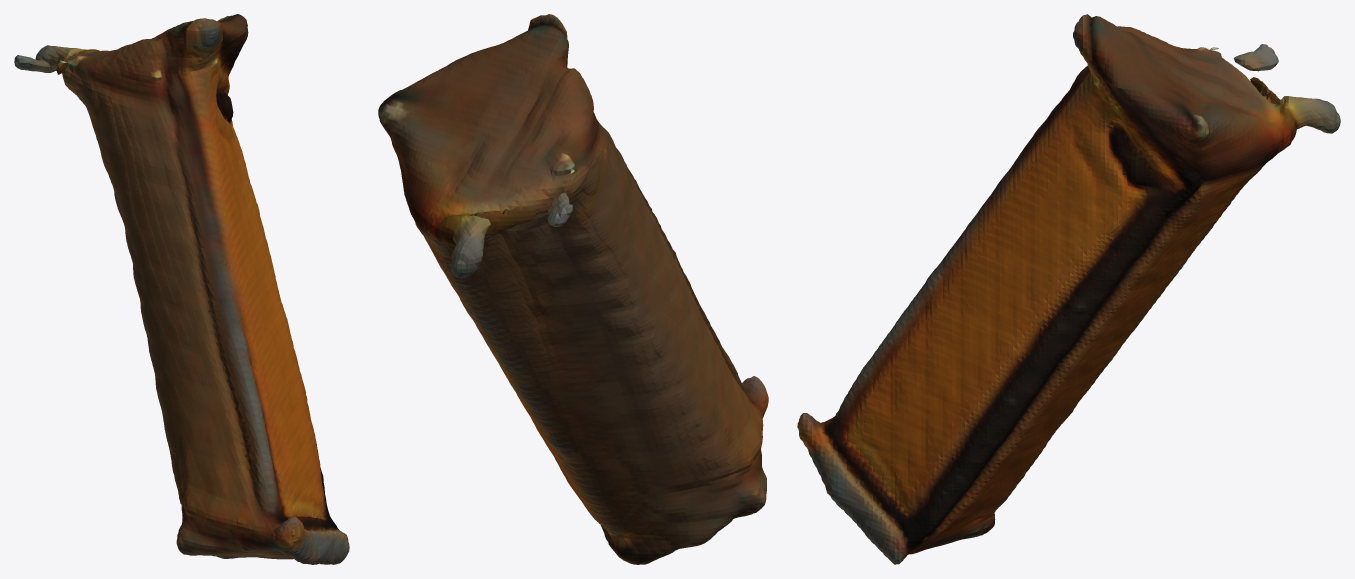
3 views of the same model, side by side, from view 1: azimuth 30°, elevation 25°; view 2: azimuth 150°, elevation 25°; view 3: azimuth 270°, elevation 25° (orthographic). The views are drawn at different scales.
Size of the model in its own units: 0.3789 by 0.9105 by 0.8474.
